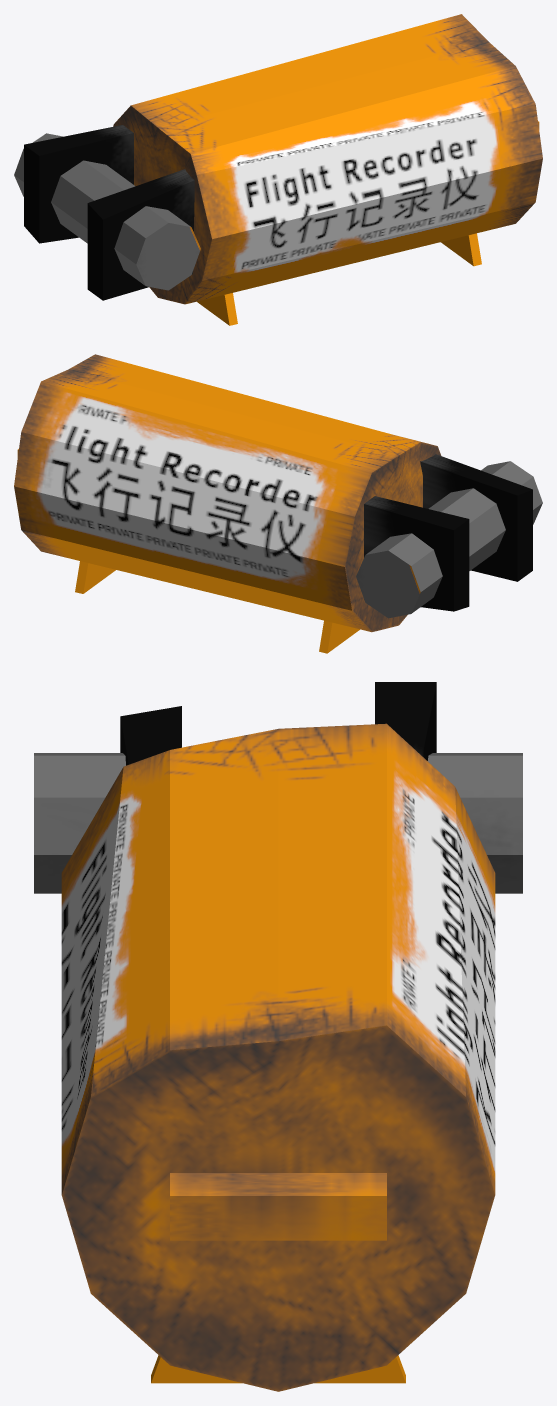
File: Flight Recorder.fbx
The picture shows the model from 3 angles, top to bottom: view 1: azimuth 30°, elevation 25°; view 2: azimuth 150°, elevation 25°; view 3: azimuth 270°, elevation 25°; orthographic projection. The views are drawn at different scales.
Visible parts, largest first — view 1: Memory_Unit, Location_Beacon, Beacon_Wield1, Beacon_Wield2, Recorder_Wield1, Recorder_Wield2; view 2: Memory_Unit, Location_Beacon, Beacon_Wield2, Beacon_Wield1, Recorder_Wield1, Recorder_Wield2; view 3: Memory_Unit, Location_Beacon, USB, Beacon_Wield1, Beacon_Wield2, Recorder_Wield1.
Boxes of the visible parts, left/top/right/bottom form: Memory_Unit: left=113, top=14, right=542, bottom=304; Location_Beacon: left=14, top=133, right=200, bottom=290; Beacon_Wield1: left=24, top=125, right=133, bottom=243; Beacon_Wield2: left=87, top=169, right=194, bottom=300; Recorder_Wield1: left=441, top=233, right=481, bottom=266; Recorder_Wield2: left=197, top=293, right=237, bottom=325; Memory_Unit: left=14, top=354, right=441, bottom=632; Location_Beacon: left=356, top=461, right=542, bottom=618; Beacon_Wield2: left=420, top=454, right=532, bottom=581; Beacon_Wield1: left=364, top=496, right=469, bottom=611; Recorder_Wield1: left=75, top=561, right=115, bottom=593; Recorder_Wield2: left=319, top=620, right=359, bottom=653; Memory_Unit: left=61, top=723, right=495, bottom=1391; Location_Beacon: left=34, top=753, right=522, bottom=893; USB: left=170, top=1173, right=386, bottom=1240; Beacon_Wield1: left=375, top=682, right=436, bottom=760; Beacon_Wield2: left=120, top=706, right=181, bottom=765; Recorder_Wield1: left=151, top=1355, right=405, bottom=1383.
Size of the model in its own units: 0.0478 by 0.0201 by 0.0226.
1 material, 1 textured.
